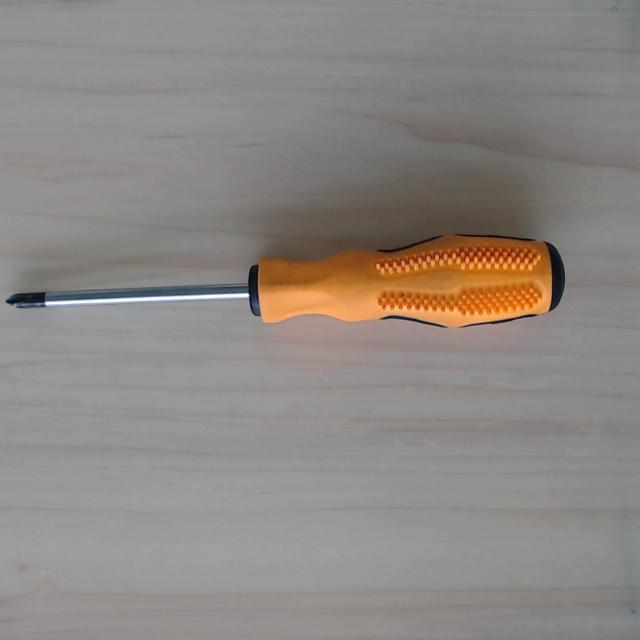Obeng-Besar: (6, 229, 566, 328)
